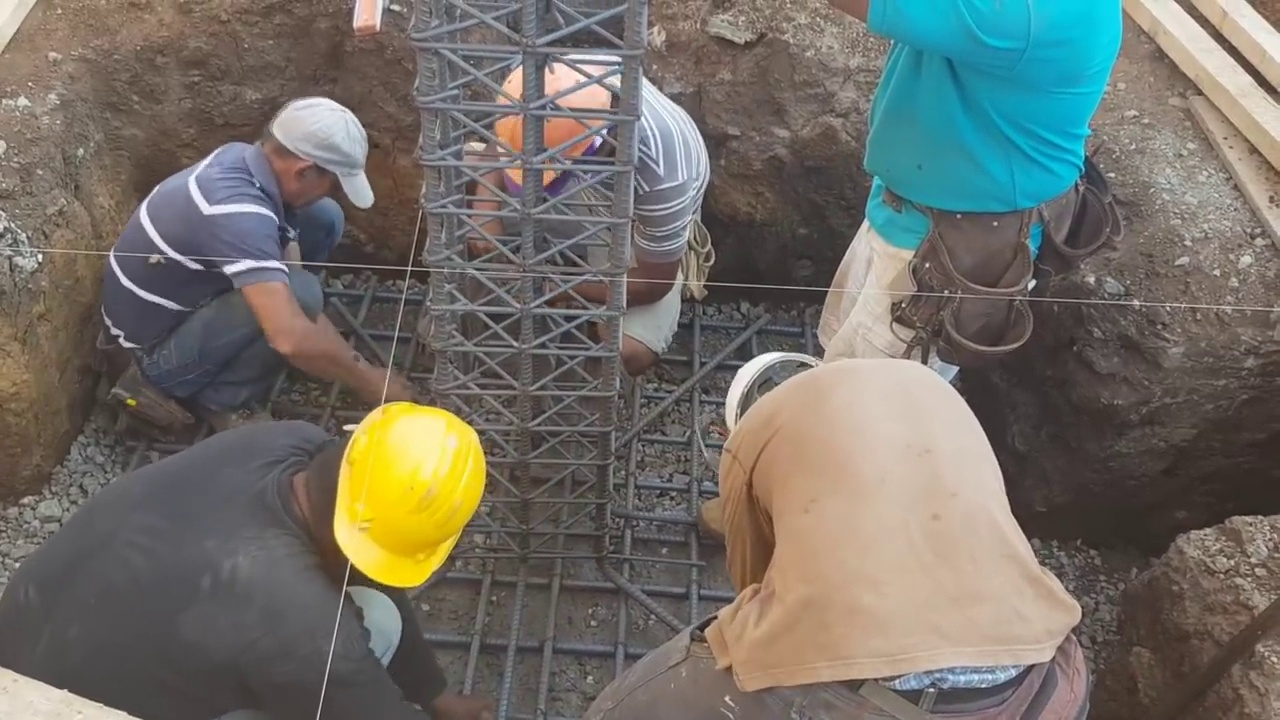helmet: (330, 399, 481, 596), (481, 49, 597, 199), (721, 357, 822, 430)
helmet-off: (262, 97, 375, 217)
helmet-on: (276, 406, 480, 597), (486, 42, 633, 212), (721, 349, 844, 435)
person: (580, 351, 1093, 720), (0, 393, 484, 720), (818, 2, 1131, 381), (102, 86, 433, 436), (460, 38, 710, 377)
